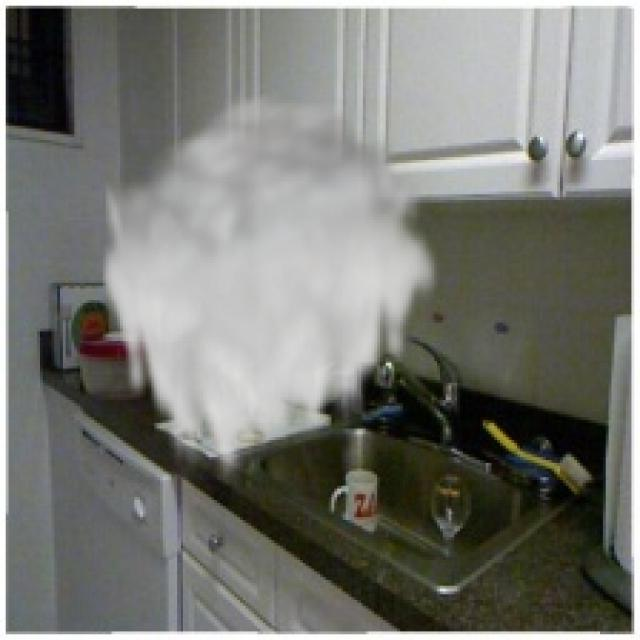smoke: (97, 86, 443, 491)
